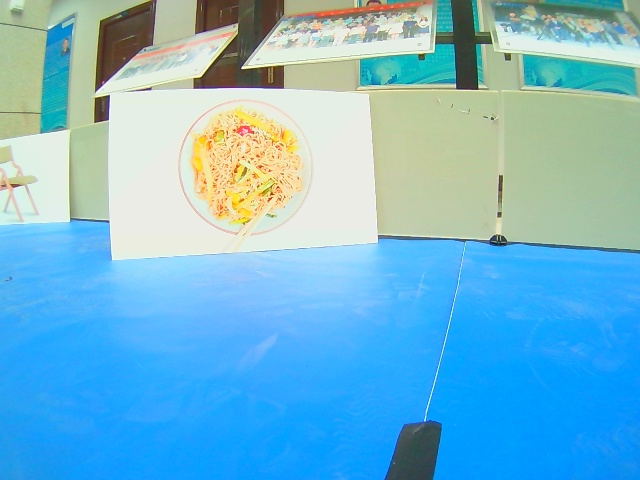food: (109, 89, 380, 261)
